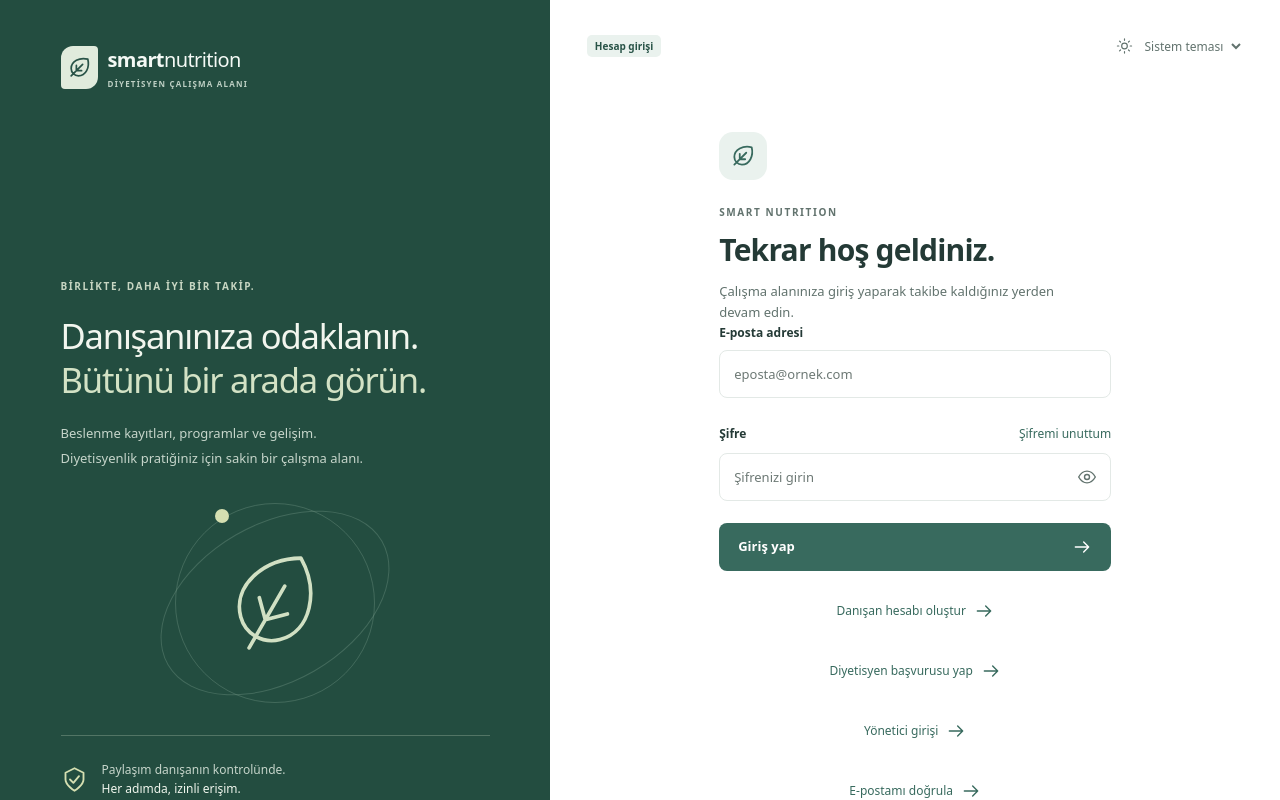
Test case: authentication presentation boundary › toggles password visibility without changing whitespace
Step 1. Type " demo secret " into the password field labelled "Şifre" → (915, 477), box [719,453,1111,501]
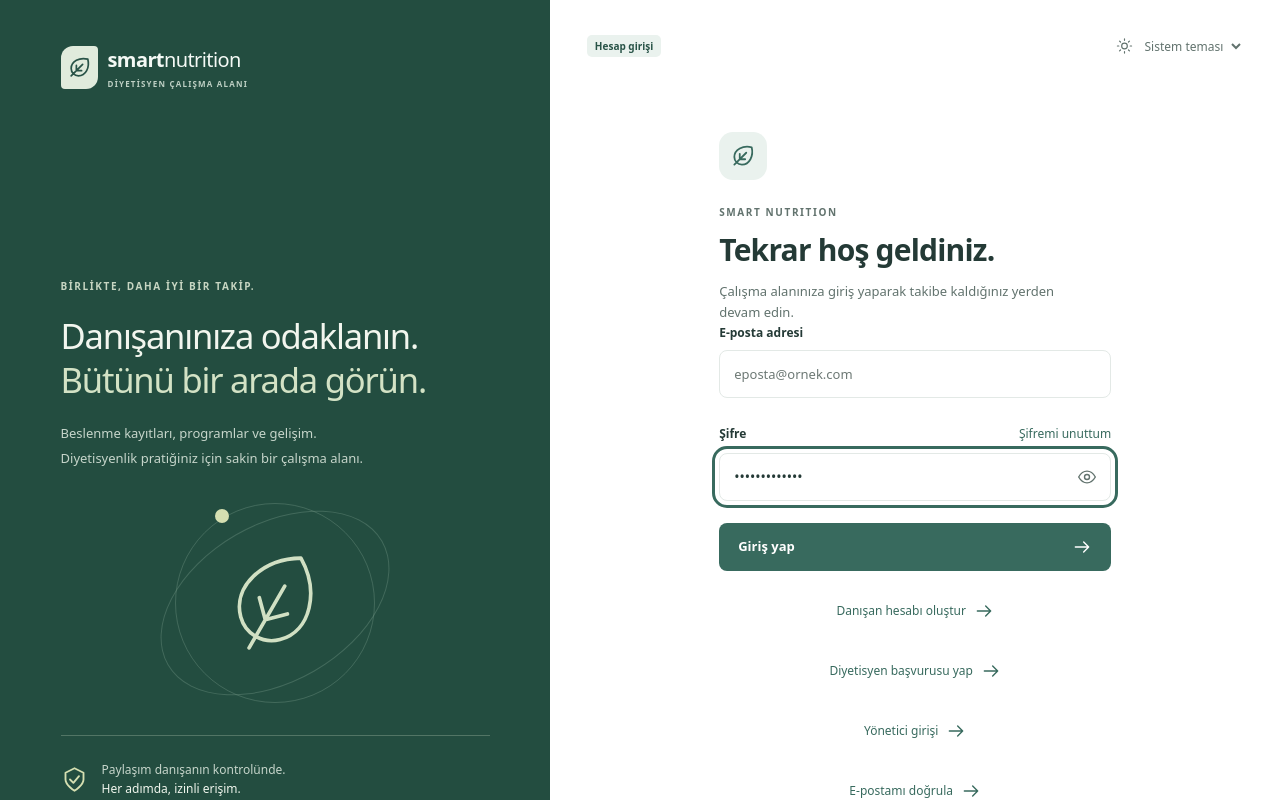
Step 2. Click the button named "Şifreyi göster" → (1087, 477), box [1065,455,1109,499]
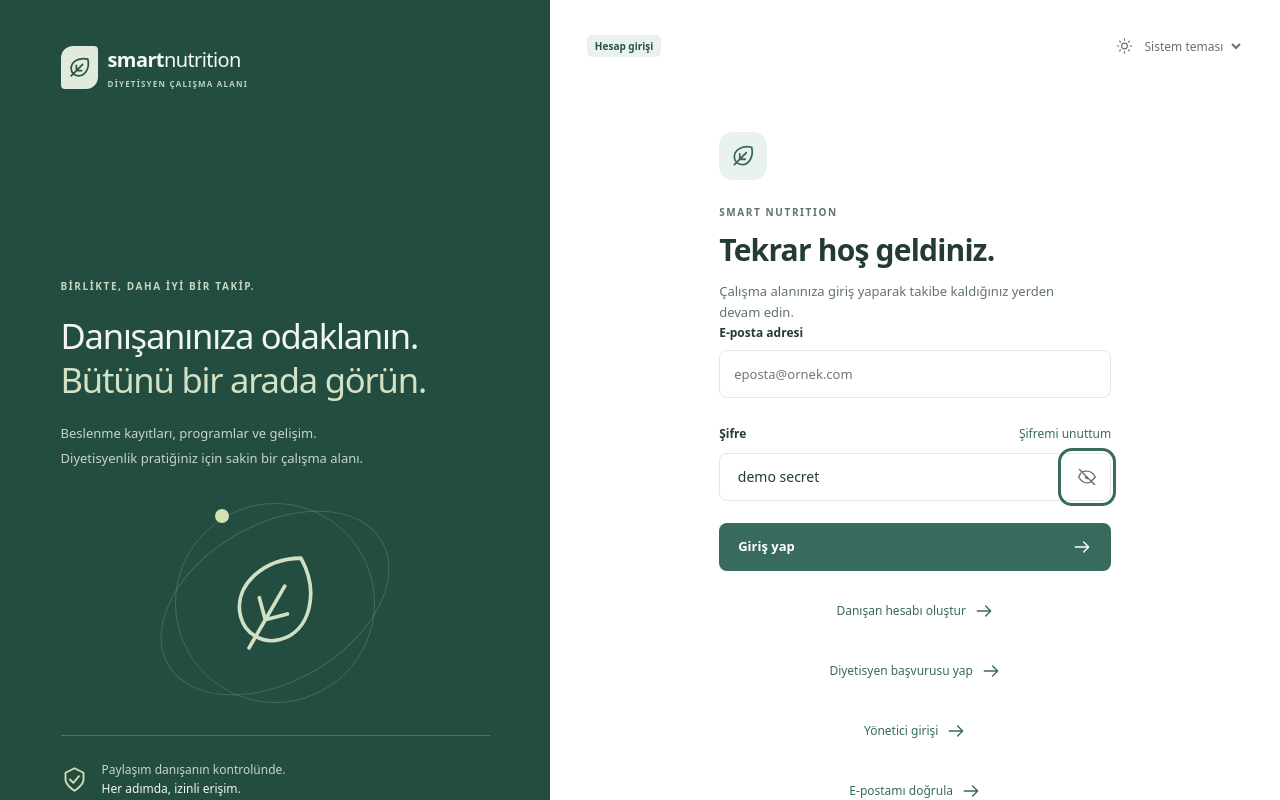
Expected: the field labelled "Şifre" shows its text, [719,453,1111,501]
Step 3. Click the button named "Şifreyi gizle" → (1087, 477), box [1065,455,1109,499]
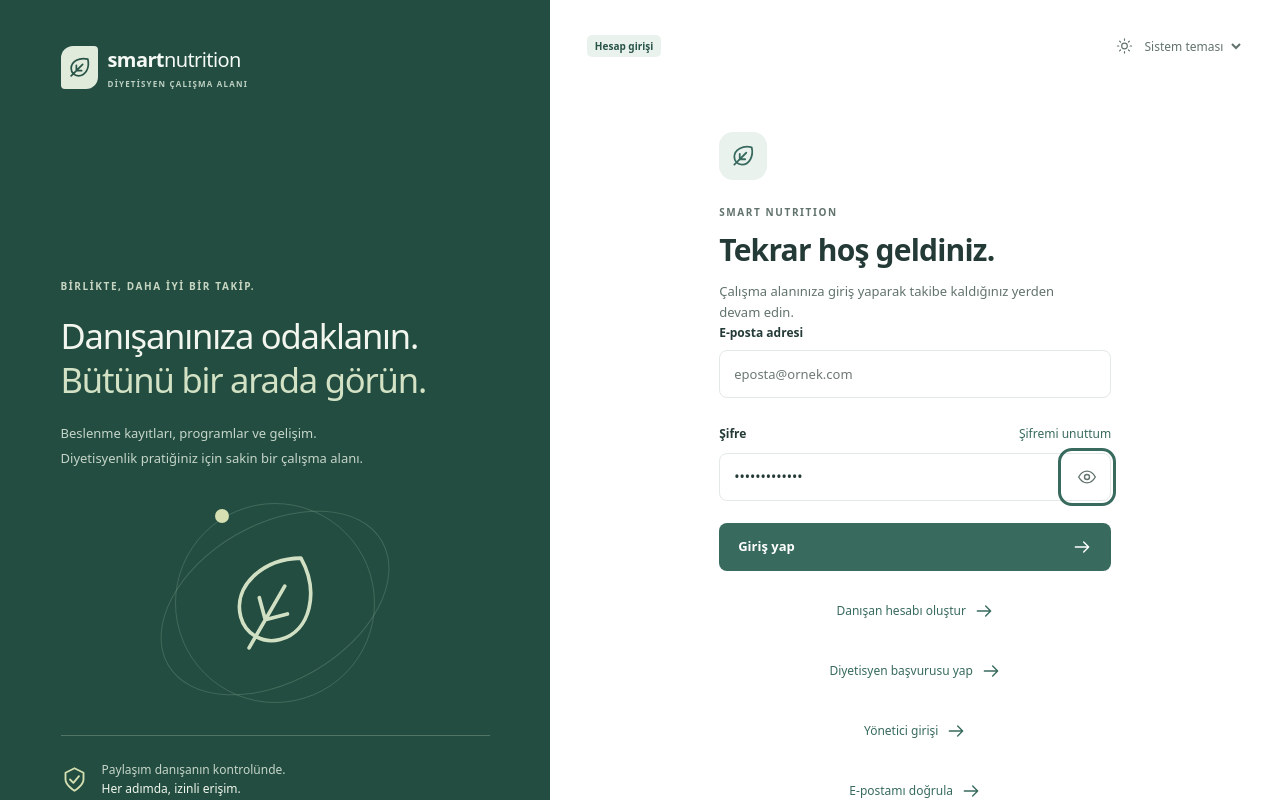
Expected: the password field labelled "Şifre" hides its text, [719,453,1111,501]
